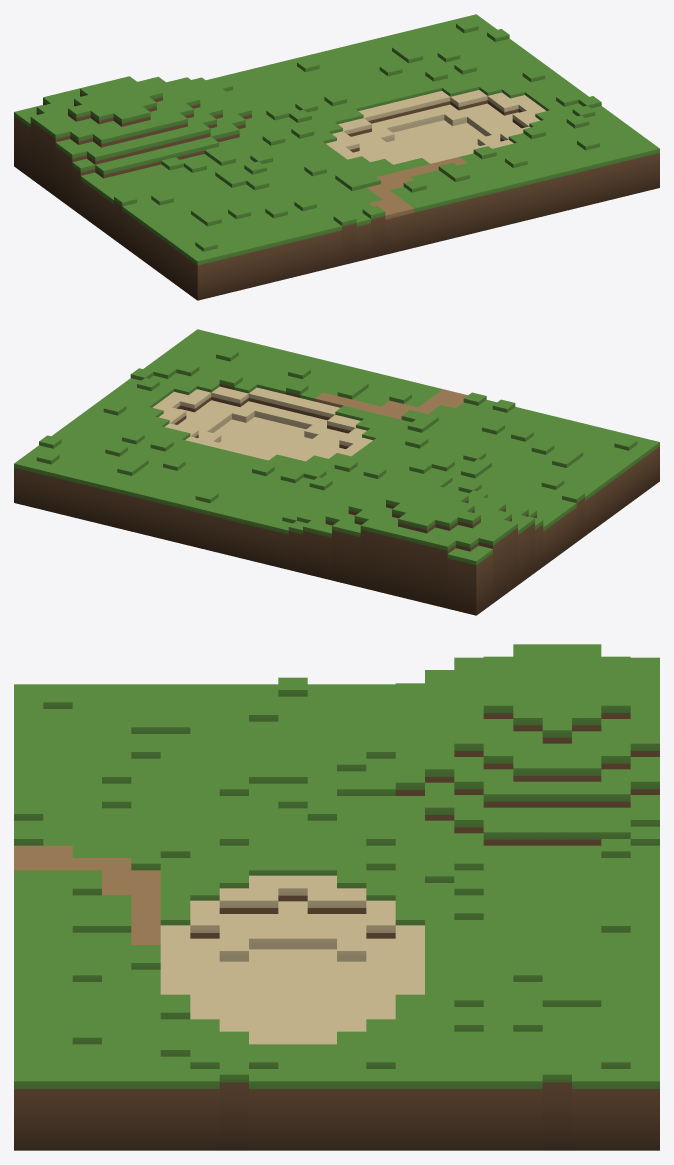
File: D05_demo_island.glb
3 renders of one model, top to bottom at view 1: azimuth 30°, elevation 25°; view 2: azimuth 150°, elevation 25°; view 3: azimuth 270°, elevation 25°, orthographic. The views are drawn at different scales.
Parts seen in each view (by area): view 1: D05_demo_island; view 2: D05_demo_island; view 3: D05_demo_island.
Boxes of the visible parts, x1,y1,x2,y2 form: D05_demo_island: [14, 14, 659, 300]; D05_demo_island: [14, 329, 659, 615]; D05_demo_island: [14, 644, 659, 1150].
Size of the model in its own units: 32 by 4.6 by 22.
